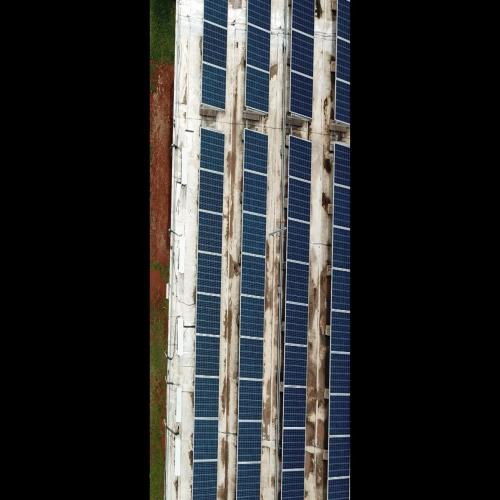conde: (175, 433, 183, 479), (179, 233, 187, 276), (176, 383, 184, 425), (182, 145, 189, 190), (178, 317, 185, 359)
